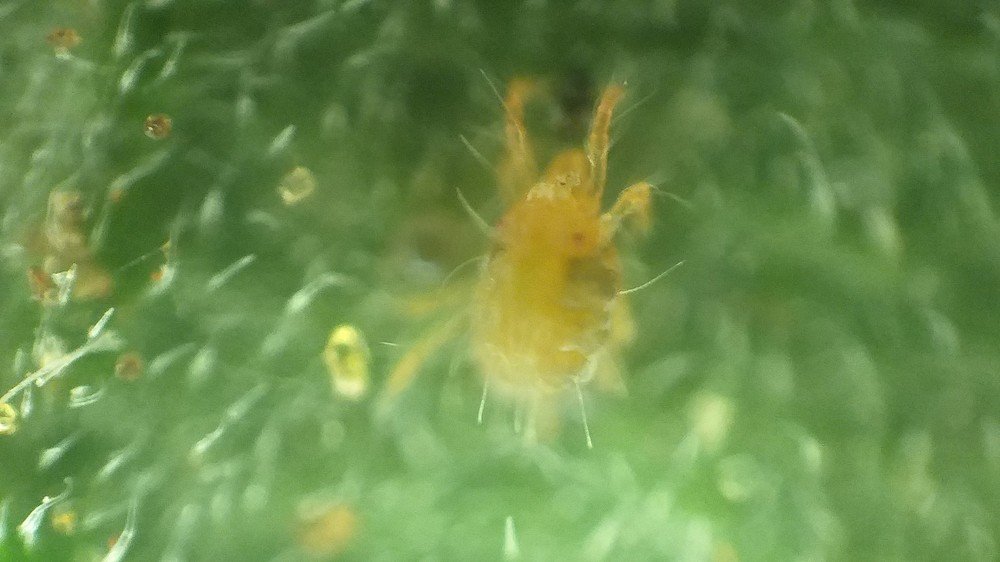Aracnido Rojo: (409, 68, 699, 470)
